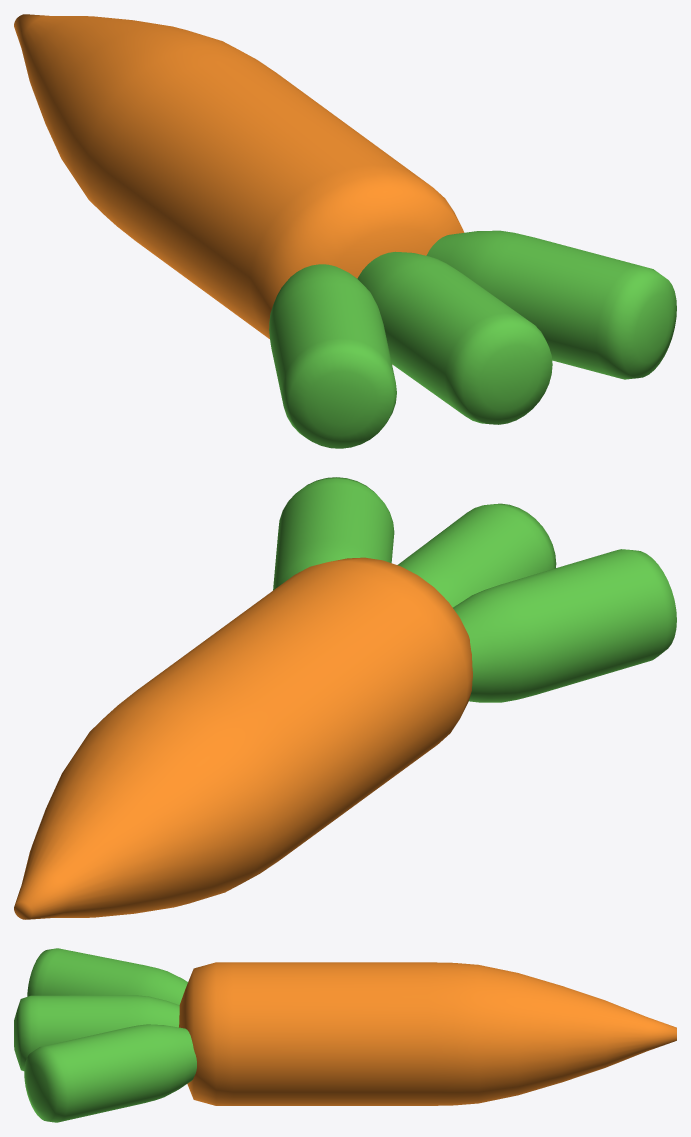
The model's file is Carrot.fbx.
3 views of the same model, one above another, from view 1: azimuth 30°, elevation 25°; view 2: azimuth 150°, elevation 25°; view 3: azimuth 270°, elevation 25° (orthographic). The views are drawn at different scales.
Visible parts, largest first — view 1: Cylinder.001; view 2: Cylinder.001; view 3: Cylinder.001.
Boxes of the visible parts, left/top/right/bottom form: Cylinder.001: left=14, top=14, right=676, bottom=448; Cylinder.001: left=14, top=477, right=676, bottom=919; Cylinder.001: left=14, top=948, right=676, bottom=1122.
Size of the model in its own units: 254 by 118 by 553.
